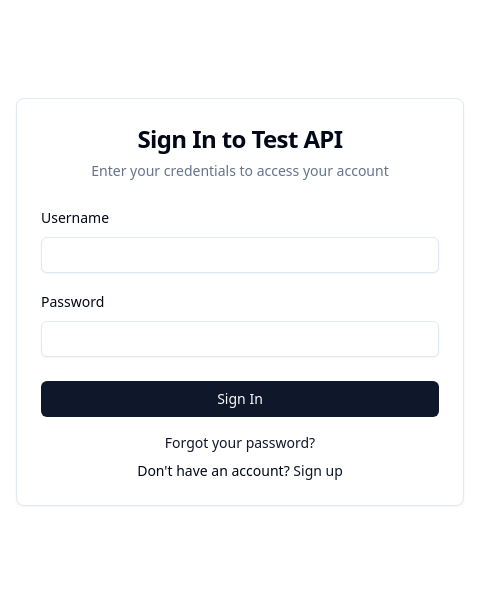
Test: LoginPage › shows back to login button in TOTP mode
This screenshot has width=481, height=605.
// Trigger TOTP mode
Type "testuser" into the field labelled "Username" at {"x": 240, "y": 255}, box [41, 237, 439, 273]
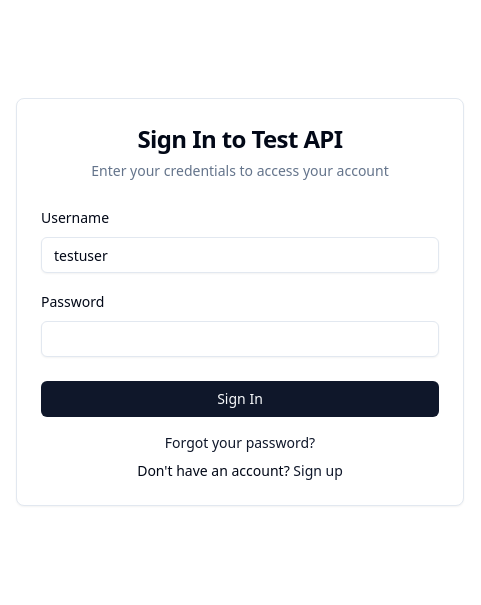
Type "password123" into the password field labelled "Password" at {"x": 240, "y": 339}, box [41, 321, 439, 357]
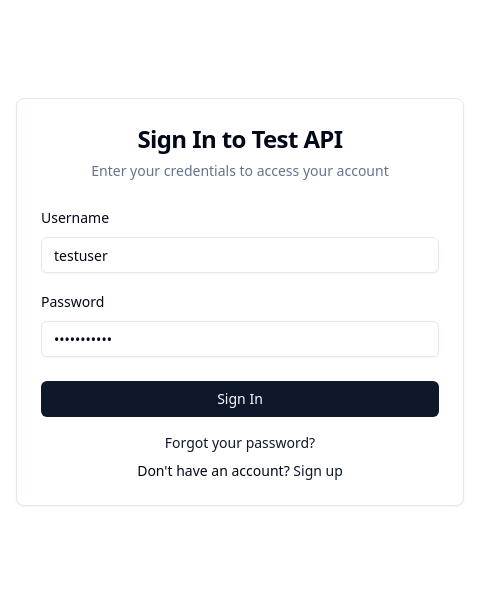
Click the button "Sign In" at {"x": 240, "y": 399}, box [41, 381, 439, 417]
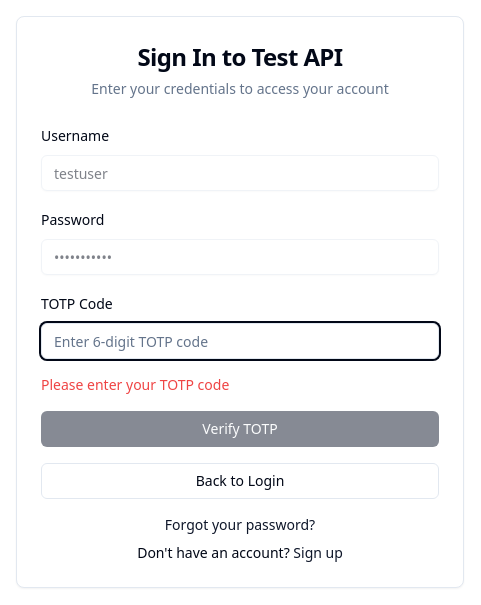
Expected: the button "Back to Login" is shown
// Click back to login
Click the button "Back to Login" at {"x": 240, "y": 481}, box [41, 463, 439, 499]
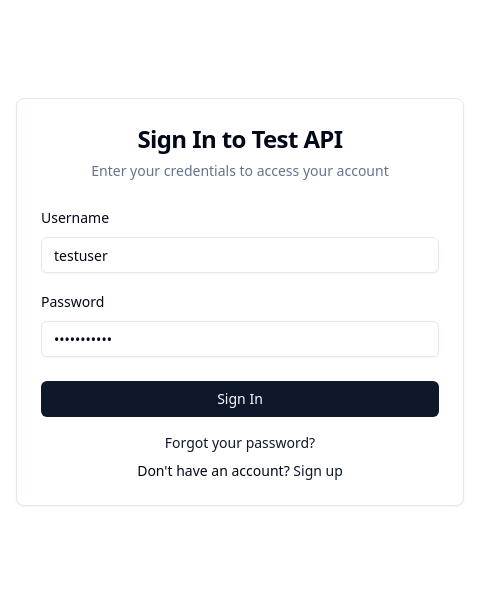
Expected: the field with placeholder "6-digit totp code" is not shown
Expected: the field labelled "Username" is enabled, [41, 237, 439, 273]
Expected: the password field labelled "Password" is enabled, [41, 321, 439, 357]
